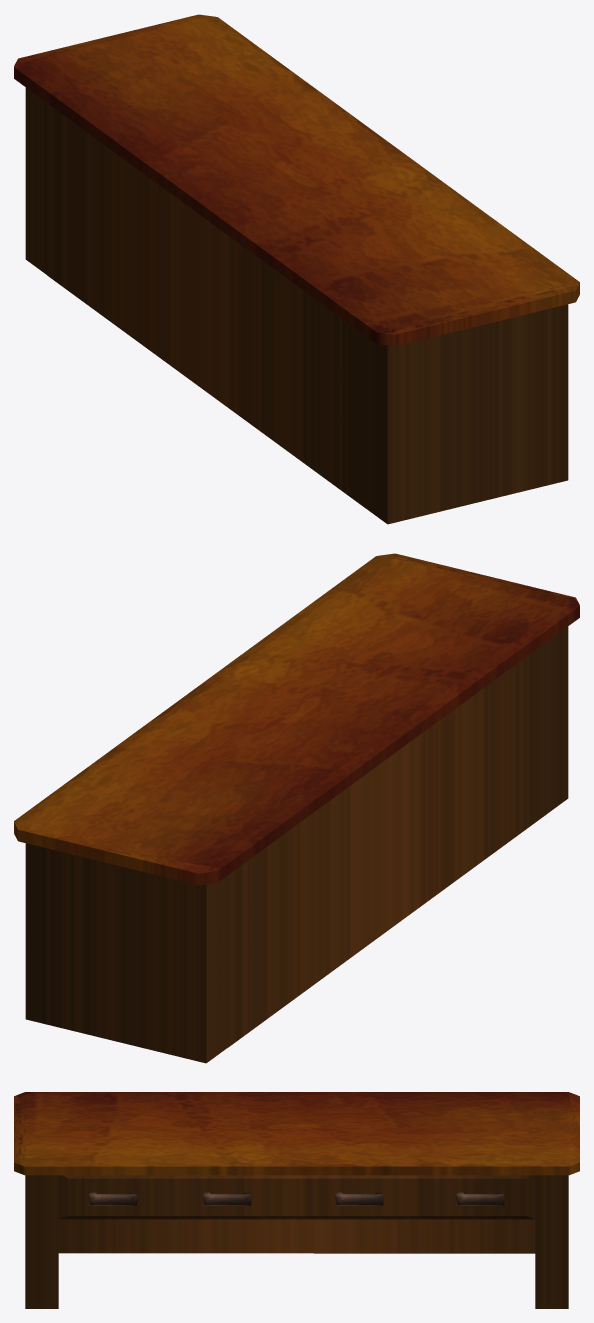
File: env_cafeCounterTable.fbx
3 views of the same model, one above another, from view 1: azimuth 30°, elevation 25°; view 2: azimuth 150°, elevation 25°; view 3: azimuth 270°, elevation 25° (orthographic). The views are drawn at different scales.
Visible parts, largest first — view 1: polySurface97; view 2: polySurface97; view 3: polySurface97.
Part boxes in pixels (<box>): polySurface97: <box>14,14,579,524</box>; polySurface97: <box>14,553,579,1063</box>; polySurface97: <box>14,1092,579,1308</box>.
Bounding box in the file's own units: 1.25 × 1.1 × 3.8.
Materials: 1 (1 with a texture image).
